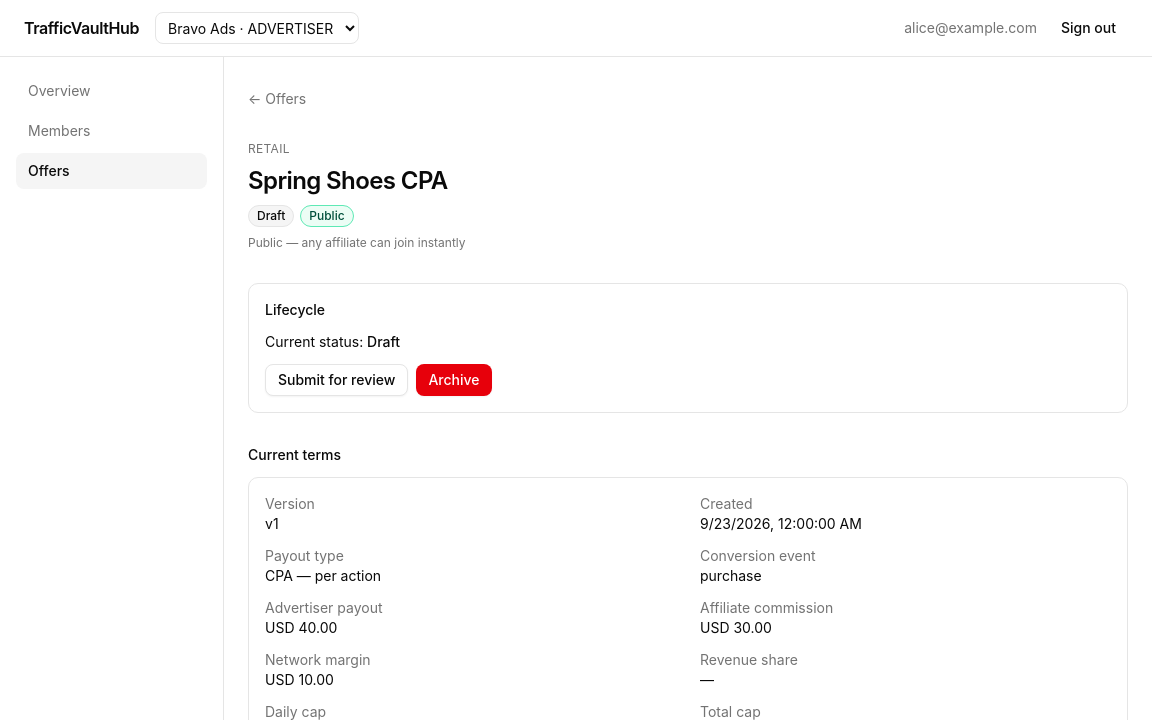
Test case: advertiser offer detail — /app/:orgId/offers/:offerId › lifecycle › routes DRAFT → SUBMITTED through POST …/submit (no body) and re-renders the server's new state
The image size is (1152, 720).
Expected: the heading "Spring Shoes CPA" is shown, [248,166,448,195]
Click the button "Submit for review" at x=337, y=380, box [265,364,408,396]
(page scrolled)
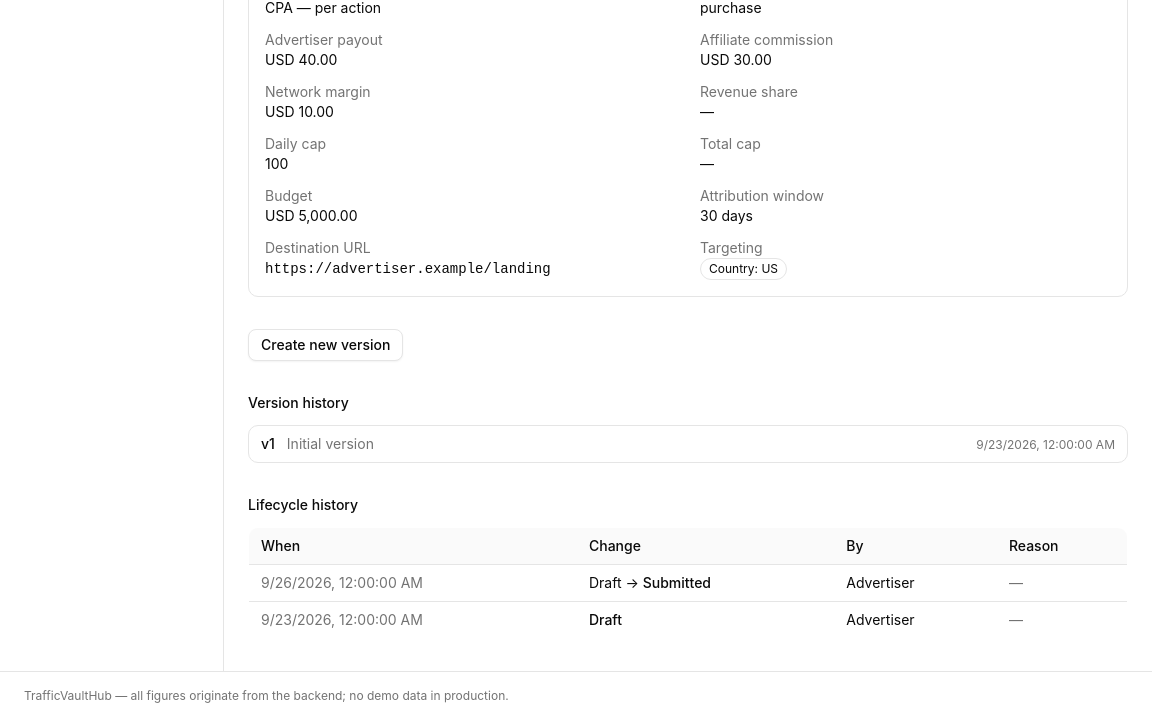
Expected: the row "9/26/2026, 12:00:00 AM Draft → Submitted Advertiser —" is shown, [248,564,1128,602]
